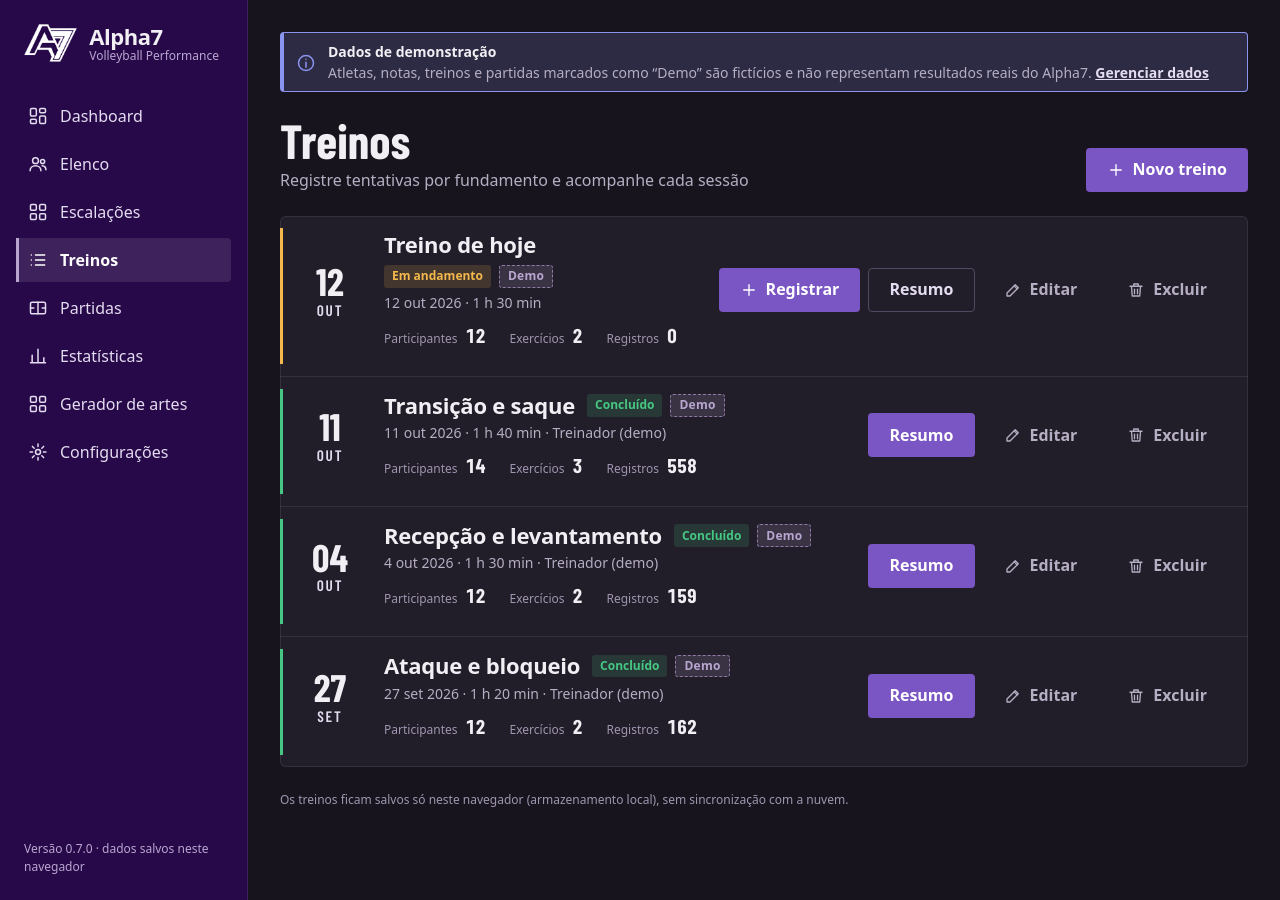
it: Lista de treinos › excluir pede confirmação, informa o que será apagado e remove em cascata só aquele treino
Click the button with aria-label "Excluir Transição e saque" at (1167, 435), box x1=1106 y1=413 x2=1228 y2=457
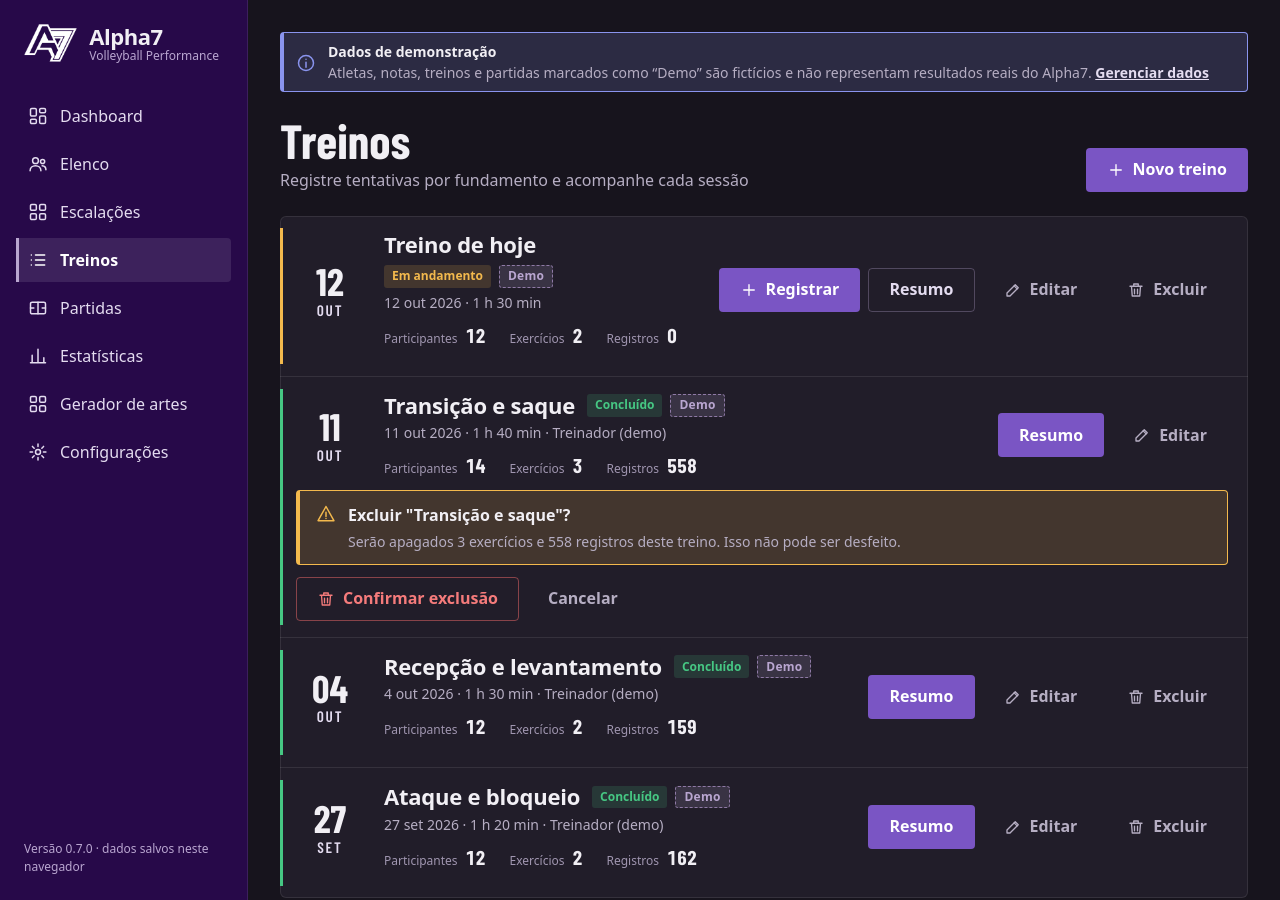
Click the button "Confirmar exclusão" at (408, 599), box x1=296 y1=577 x2=519 y2=621
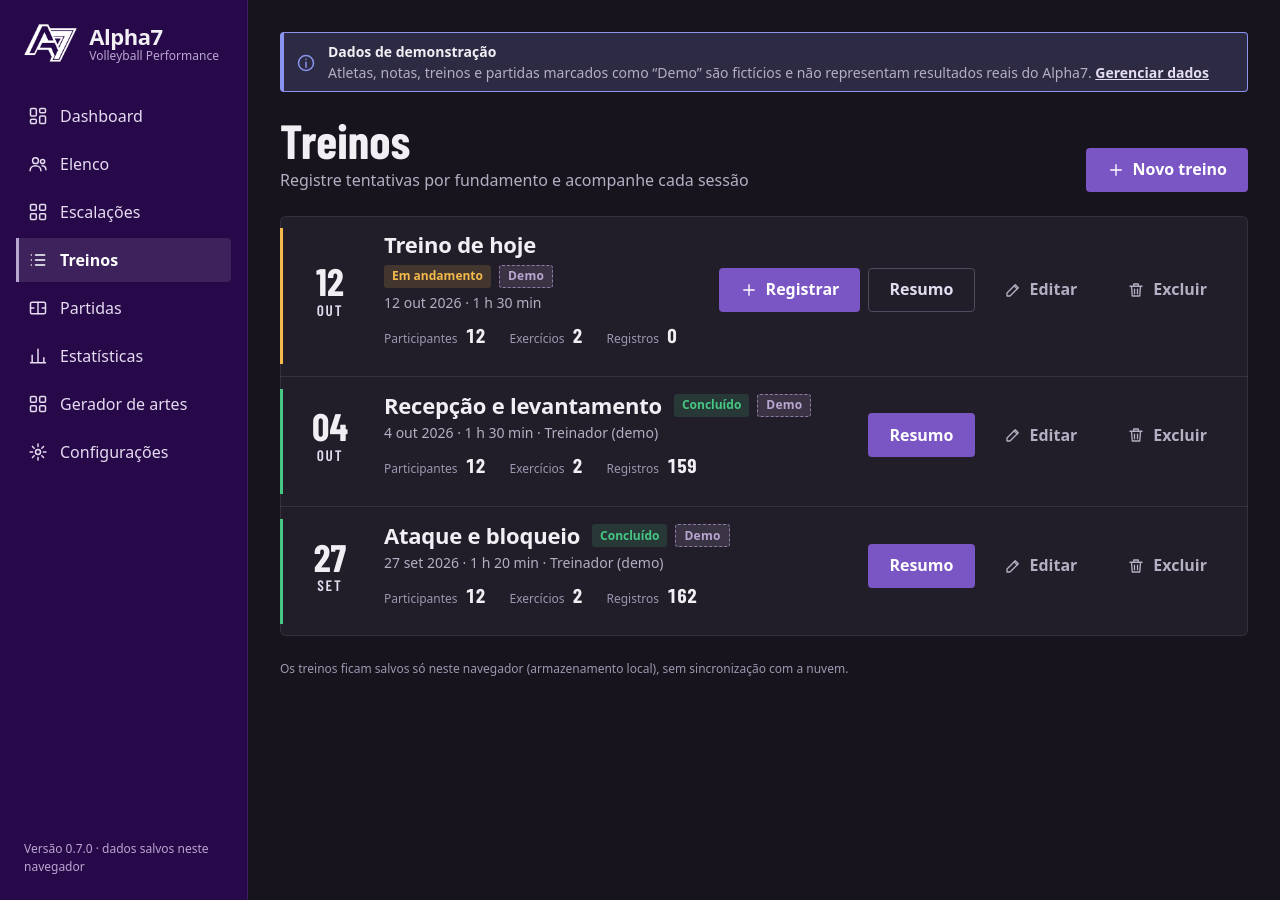
expect the heading "Transição e saque" is gone: met
